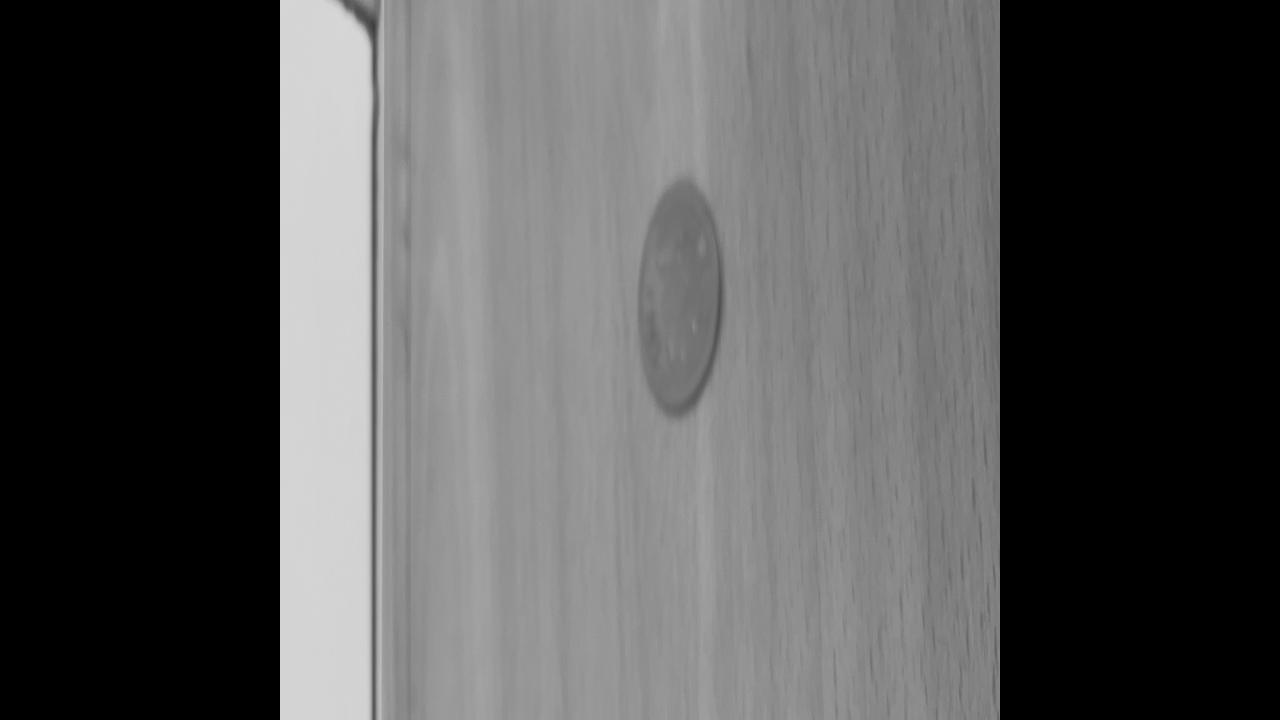coin: (636, 174, 721, 413)
